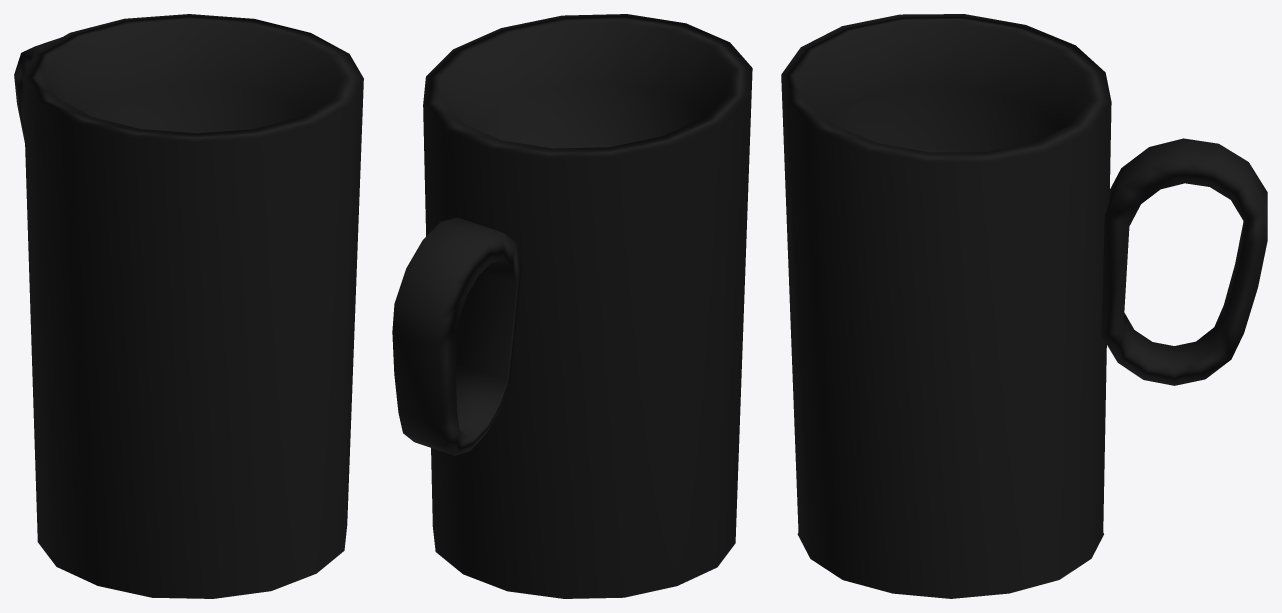
Rendered from Taza13.fbx.
The picture shows the model from 3 angles, left to right: view 1: azimuth 30°, elevation 25°; view 2: azimuth 150°, elevation 25°; view 3: azimuth 270°, elevation 25°; orthographic projection. The views are drawn at different scales.
Visible parts, largest first — view 1: Taza13; view 2: Taza13; view 3: Taza13.
Boxes of the visible parts, x1=… form: Taza13: x1=14, y1=14, x2=363, y2=598; Taza13: x1=392, y1=14, x2=752, y2=598; Taza13: x1=781, y1=14, x2=1267, y2=598.
Bounding box in the file's own units: 13.33 × 20.16 × 19.64.
